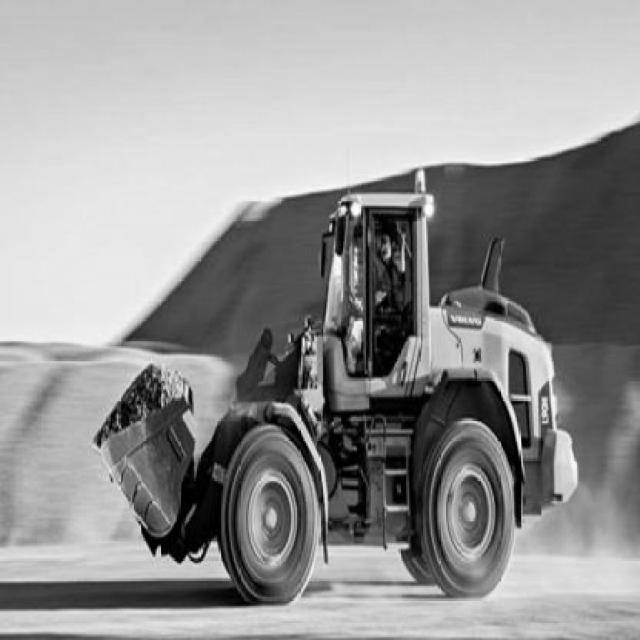Construction Equipment: (92, 192, 580, 608)
